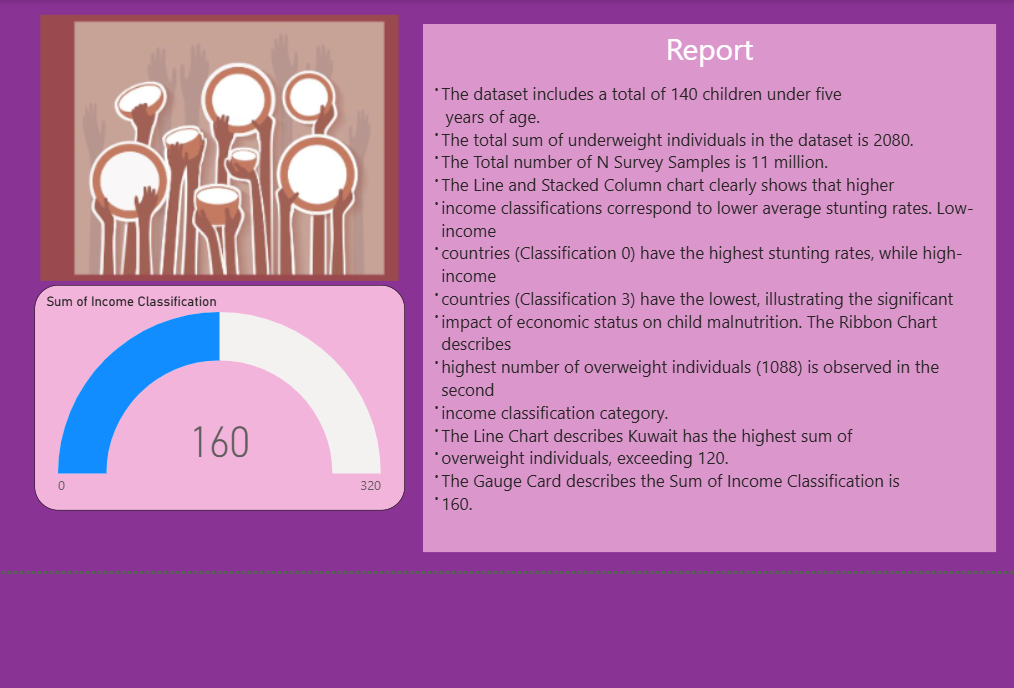

This screenshot's page, from the dashboard's own definition file:
{"tool":"powerbi","page":{"name":"Page 2","canvas":[1280,720],"ordinal":1},"visuals":[{"type":"gauge","fields":{"Y":["malnutrition-estimates.Income Classification"]},"box":[43.9,359.5,466.6,284],"z":0},{"type":"image","box":[43.9,13.7,466.6,345.8],"z":1000},{"type":"textbox","box":[532.4,30.2,721.8,665.5],"z":2000}]}

Visuals, with their boxes on the page's 1280x720 design canvas (x1, y1, x2, y2). These are canvas units, not pixel positions in the 1014x688 screenshot, which may show the page scaled, cropped or inside an application window:
gauge - malnutrition-estimates.Income Classification: Rect(44, 360, 510, 644)
image: Rect(44, 14, 510, 360)
textbox: Rect(532, 30, 1254, 696)
